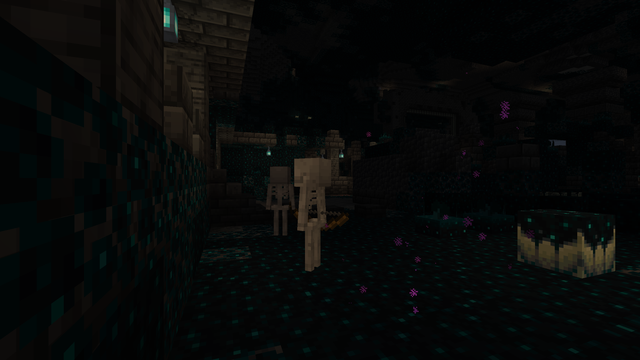squelettes: (293, 158, 334, 275), (268, 166, 288, 237)
